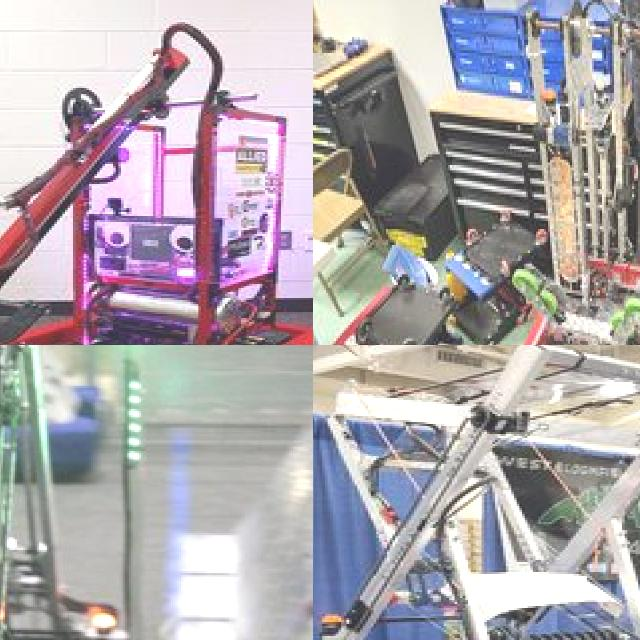FRC-Robots: (0, 22, 313, 345), (313, 348, 640, 640), (0, 345, 248, 640), (508, 0, 640, 345), (0, 345, 145, 490)
